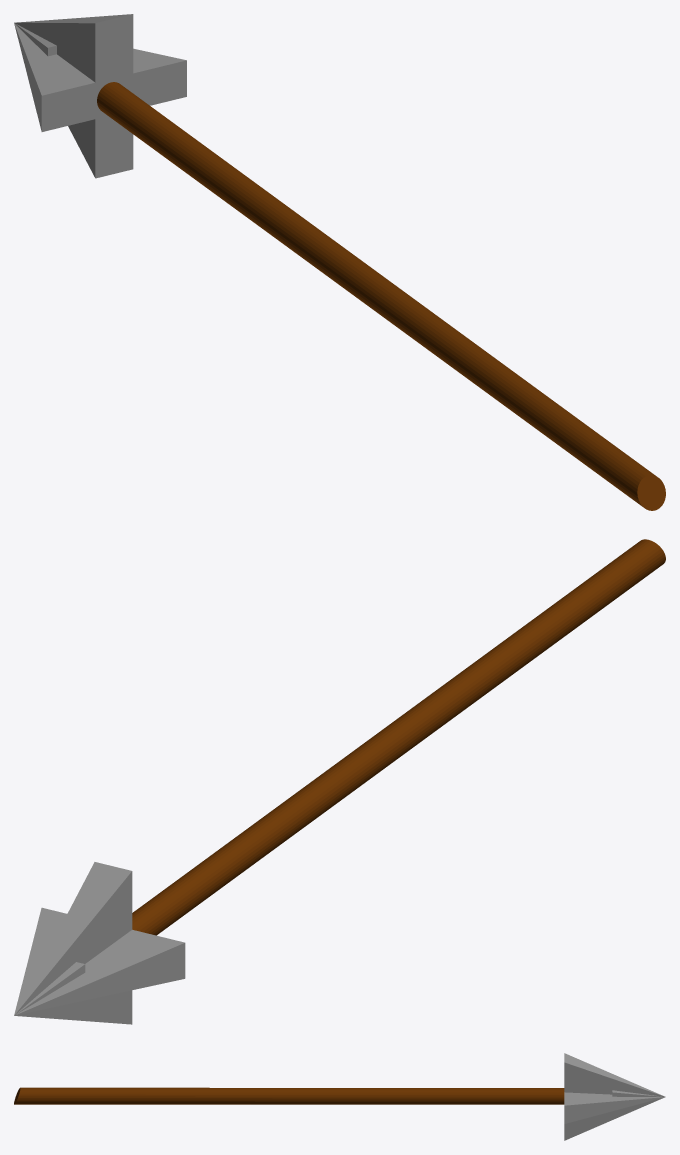
Rendered from Lance.fbx.
The picture shows the model from 3 angles, top to bottom: view 1: azimuth 30°, elevation 25°; view 2: azimuth 150°, elevation 25°; view 3: azimuth 270°, elevation 25°; orthographic projection. The views are drawn at different scales.
Visible parts, largest first — view 1: Cube; view 2: Cube; view 3: Cube.
Part boxes in pixels (x1=…): Cube: x1=14, y1=14, x2=665, y2=510; Cube: x1=14, y1=539, x2=665, y2=1024; Cube: x1=14, y1=1053, x2=665, y2=1140.
Size of the model in its own units: 216 by 221 by 1663.
